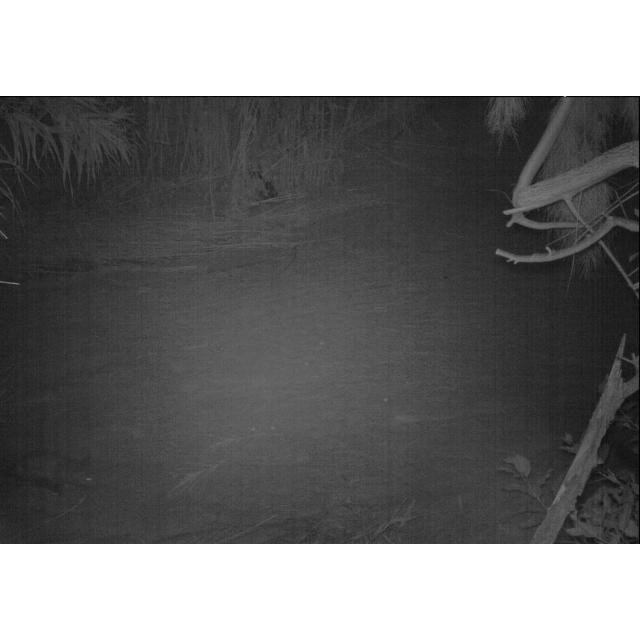animals: (2, 449, 104, 496)
